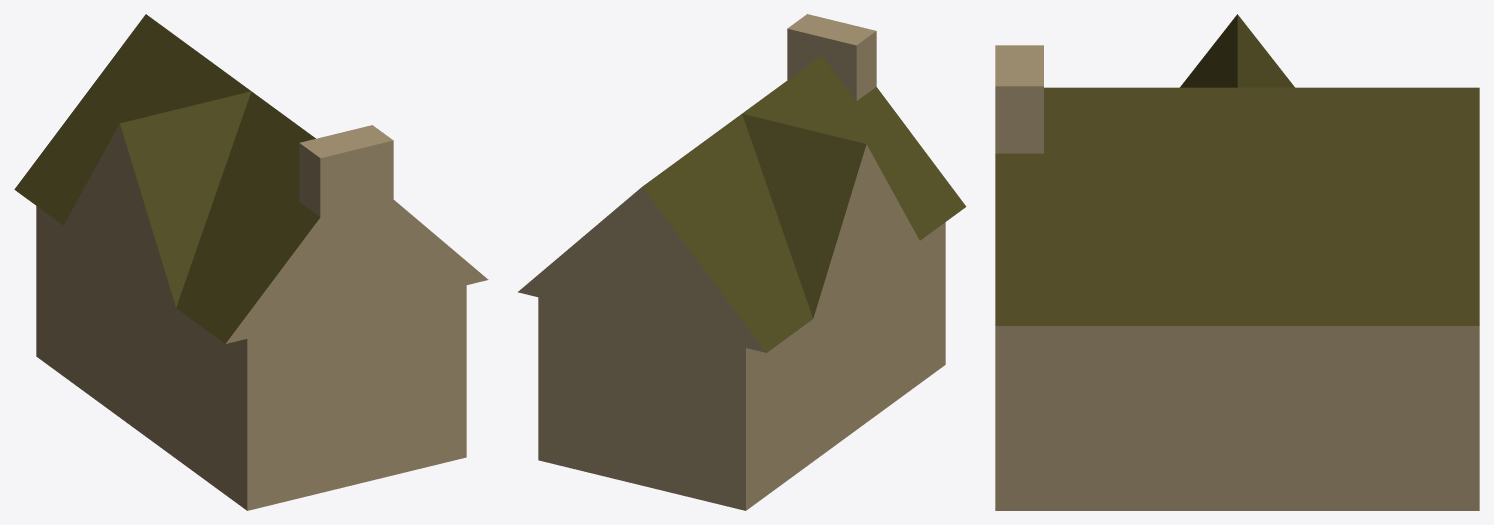
Rendered from gablehouse.fbx.
The picture shows the model from 3 angles, left to right: view 1: azimuth 30°, elevation 25°; view 2: azimuth 150°, elevation 25°; view 3: azimuth 270°, elevation 25°; orthographic projection. The views are drawn at different scales.
Visible parts, largest first — view 1: gablehouse.001; view 2: gablehouse.001; view 3: gablehouse.001.
Boxes of the visible parts, box(x1,y1,x2,y2) form: gablehouse.001: box(14, 14, 488, 510); gablehouse.001: box(518, 14, 966, 510); gablehouse.001: box(995, 14, 1479, 510).
Size of the model in its own units: 7.2 by 10 by 8.75.
